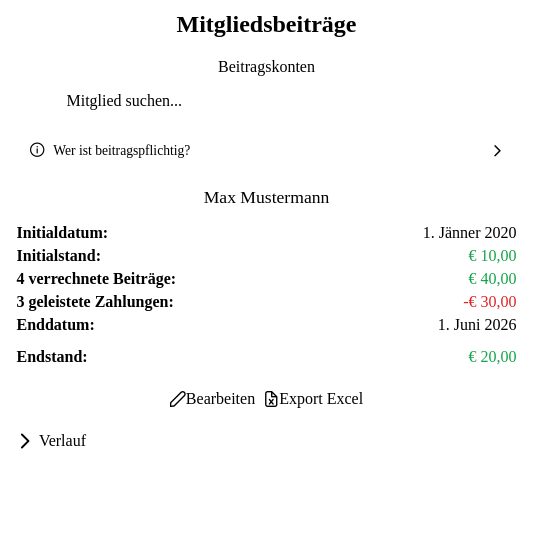
Scenario: FeeMemberView › shows the running balance in a 4-column progress table
Click the button "Verlauf" at (51, 441), box x1=16 y1=432 x2=86 y2=450
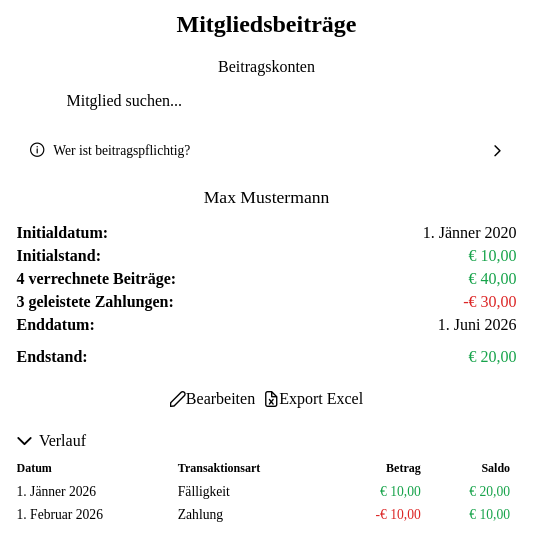
Now the row "Datum Transaktionsart Betrag Saldo" is shown, box x1=16 y1=458 x2=516 y2=481
Now the row "1. Jänner 2026 Fälligkeit € 10,00 € 20,00" is shown, box x1=16 y1=481 x2=516 y2=503
Now the row "1. Februar 2026 Zahlung -€ 10,00 € 10,00" is shown, box x1=16 y1=503 x2=516 y2=526
